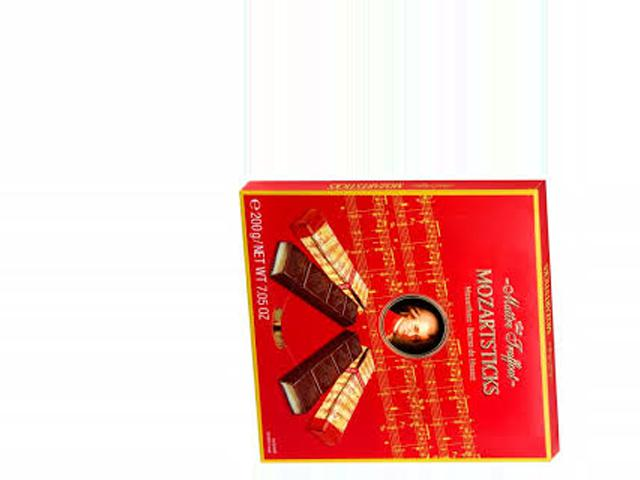chocolate: (230, 176, 552, 468)
